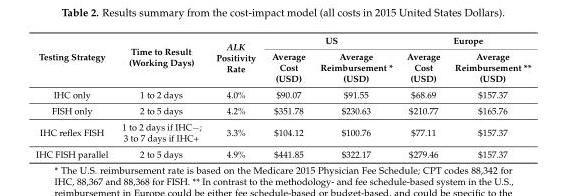table: (35, 34, 530, 159)
table column: (114, 34, 208, 159), (312, 34, 399, 159), (446, 34, 530, 159), (35, 34, 114, 159), (208, 34, 263, 159), (263, 34, 312, 159), (399, 34, 446, 159)
table column header: (35, 34, 530, 86)
table row: (35, 48, 530, 86), (35, 118, 530, 145), (35, 86, 530, 102), (35, 102, 530, 118), (35, 34, 530, 48), (35, 145, 530, 159)
table spanning cell: (114, 34, 208, 86), (35, 34, 114, 86), (208, 34, 263, 86), (263, 34, 399, 48), (399, 34, 530, 48)
